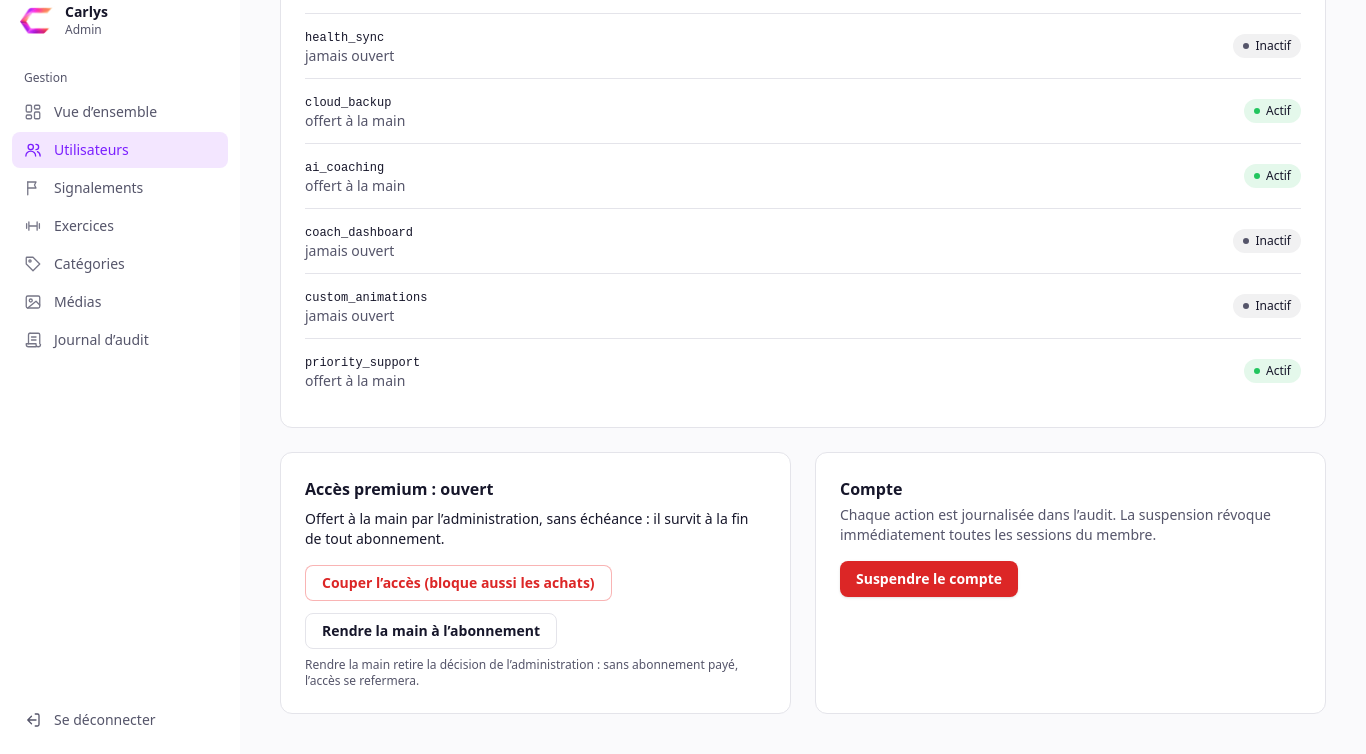
it: Fiche utilisateur › accès premium › une coupure ratée puis « Rendre la main » réussi : plus aucune alerte d’échec
(page scrolled)
Click the button "Couper l’accès (bloque aussi les achats)".
click(458, 583)  # box [305,565,612,601]
(page scrolled)
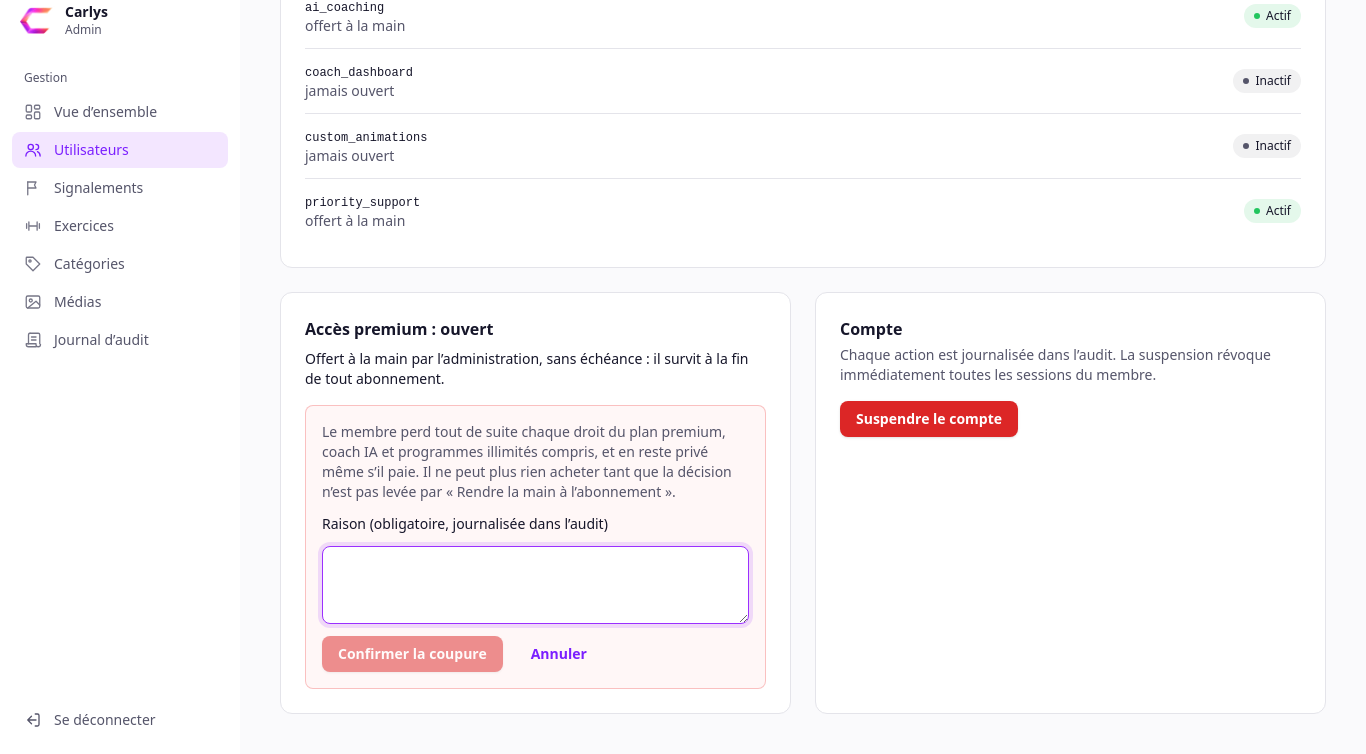
Type "Fraude" into the text box labelled "Raison (obligatoire, journalisée dans l’audit)".
click(536, 585); type("Fraude")  # box [322,546,749,624]
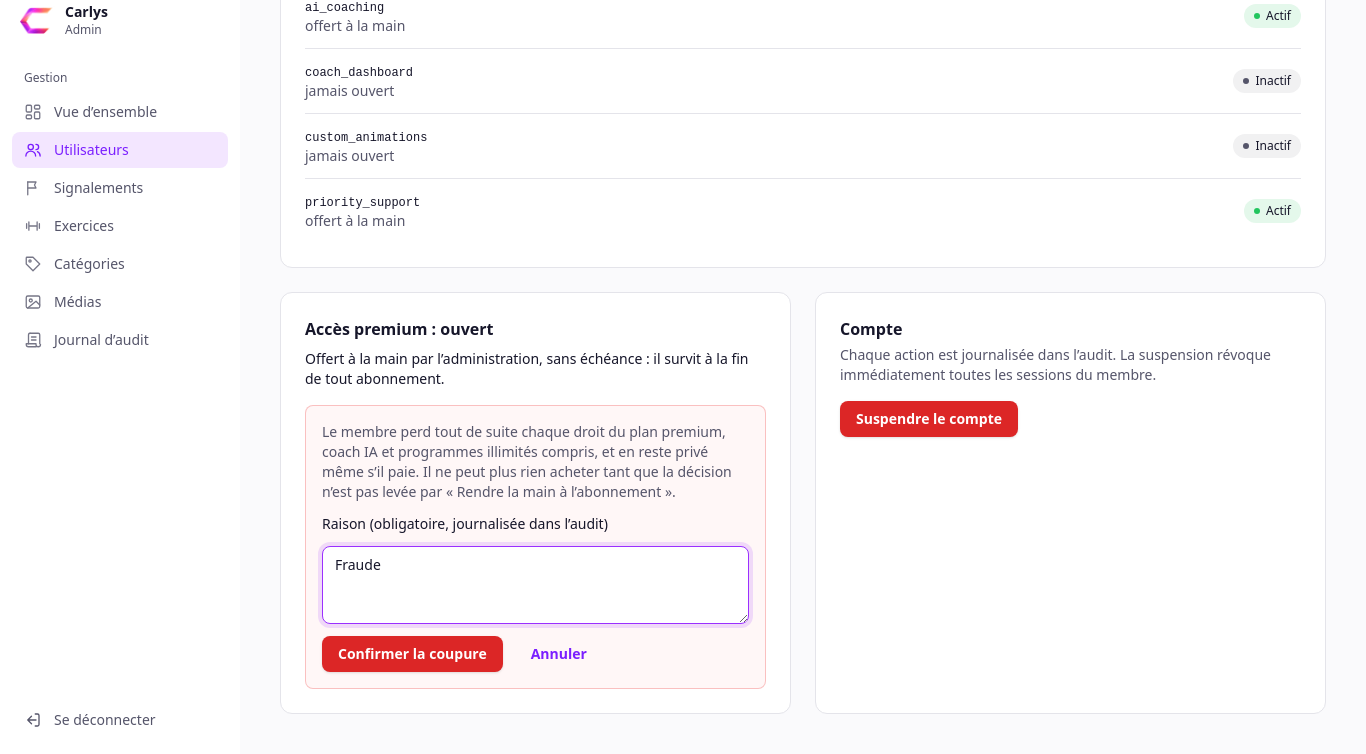
Click the button "Confirmer la coupure".
click(412, 654)  # box [322,636,503,672]
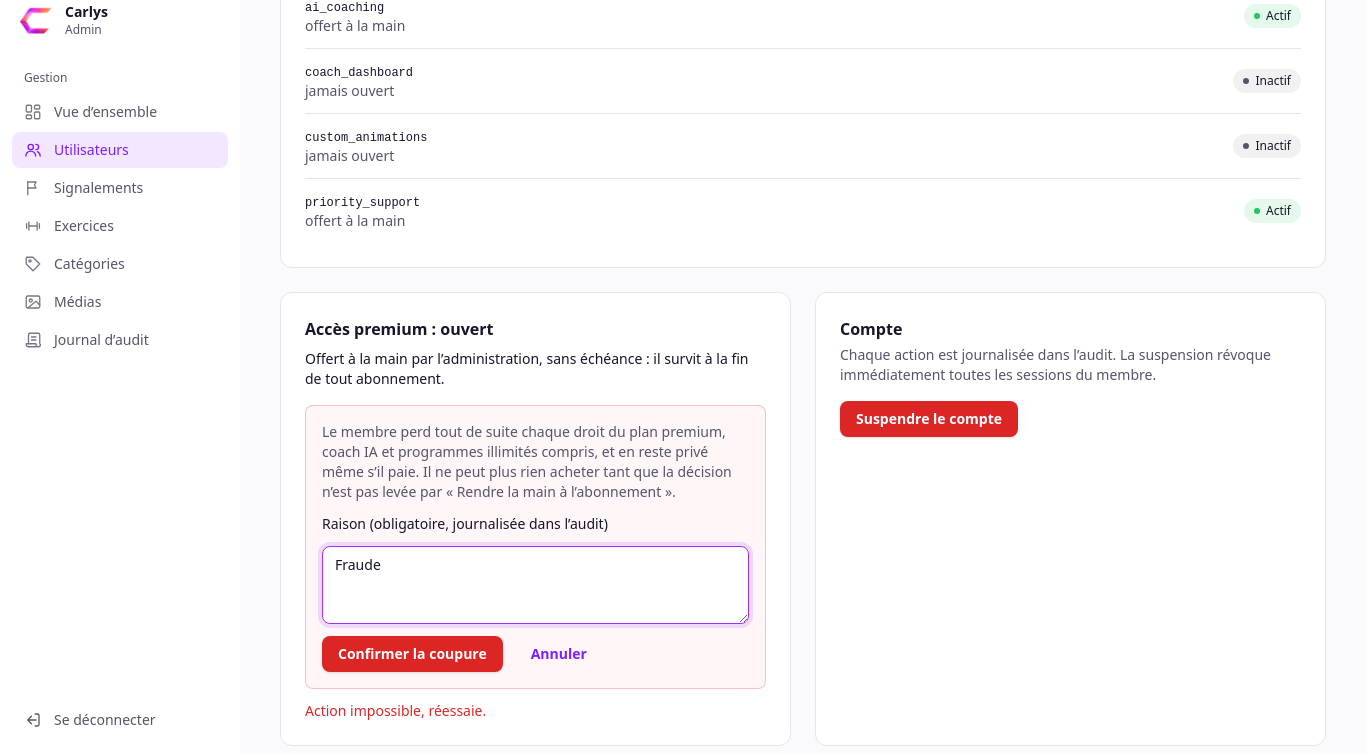
Expected: the message reads "Action impossible, réessaie.", [305,701,486,720]
Click the button "Annuler".
click(559, 654)  # box [515,636,603,672]
(page scrolled)
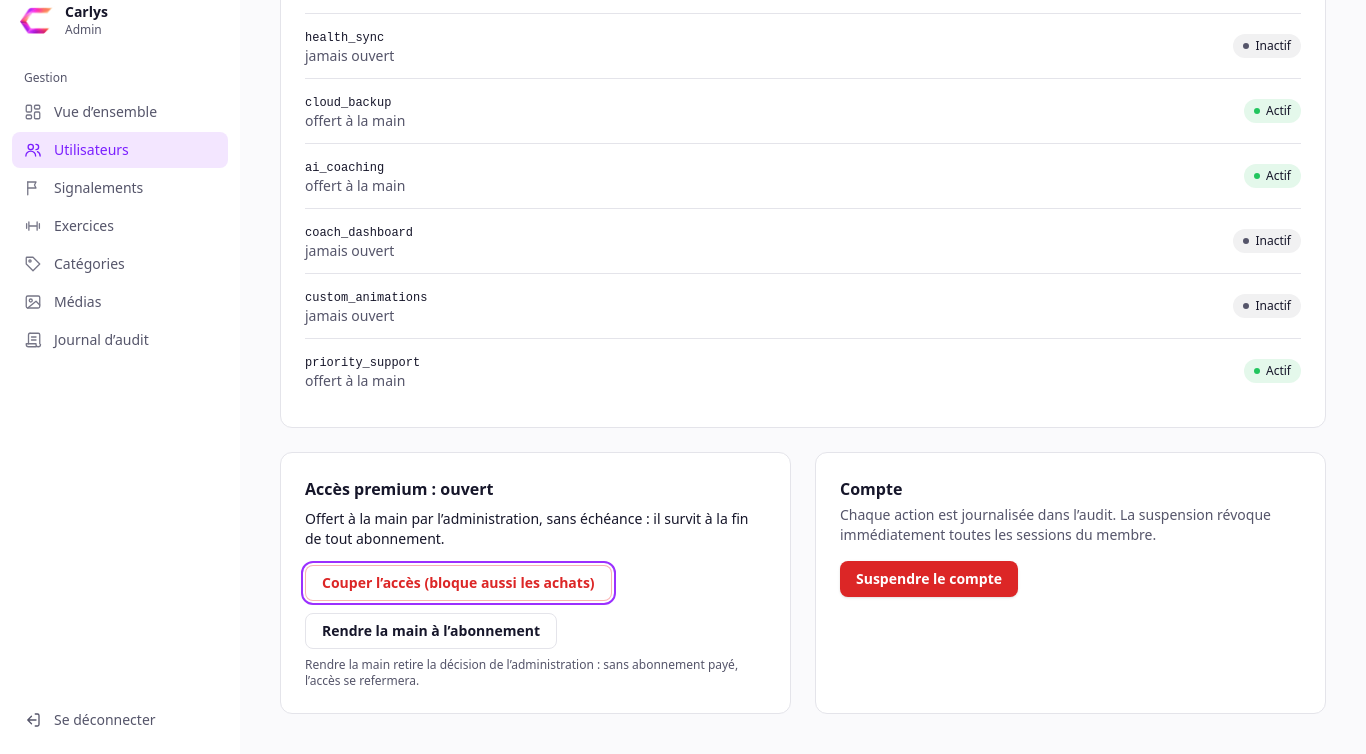
Click the button "Rendre la main à l’abonnement".
click(431, 631)  # box [305,613,557,649]
(page scrolled)
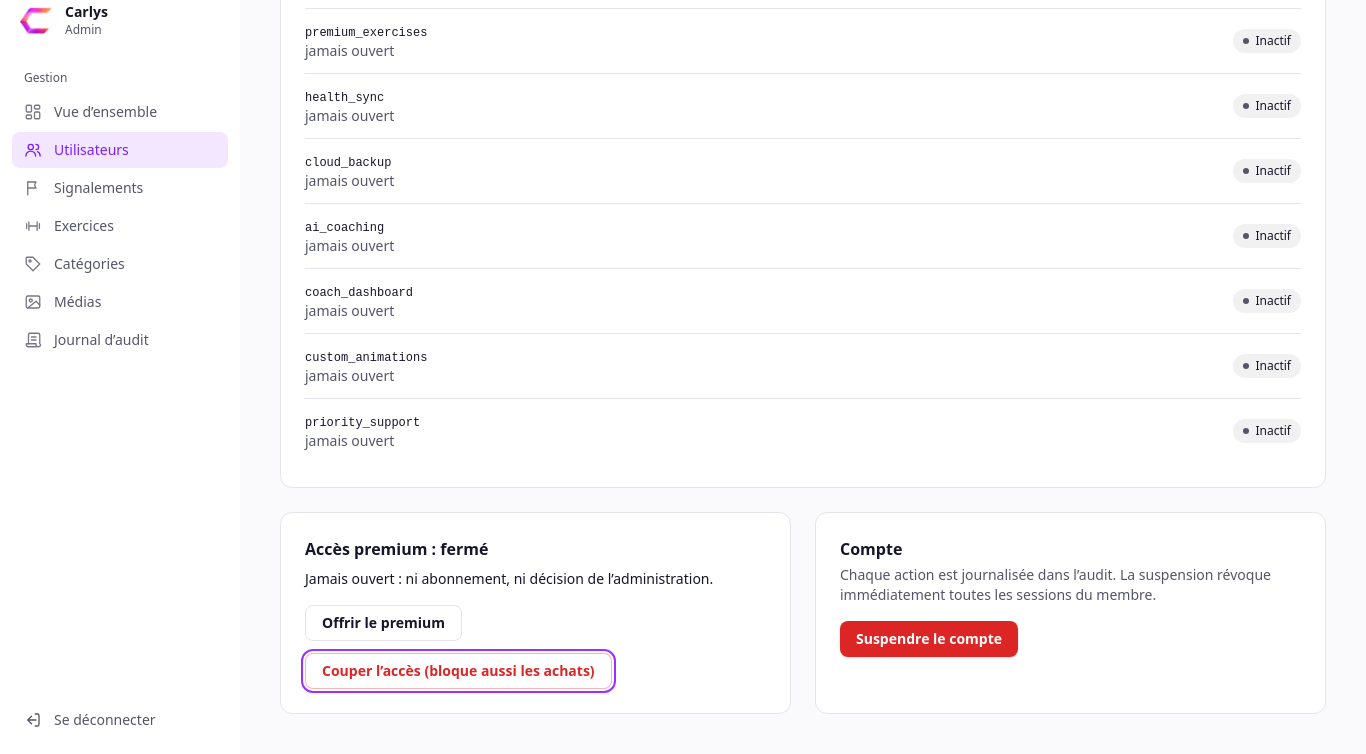
Expected: the message "Action impossible, réessaie." is not shown
Expected: the text "Jamais ouvert" is shown, [305,569,713,588]
